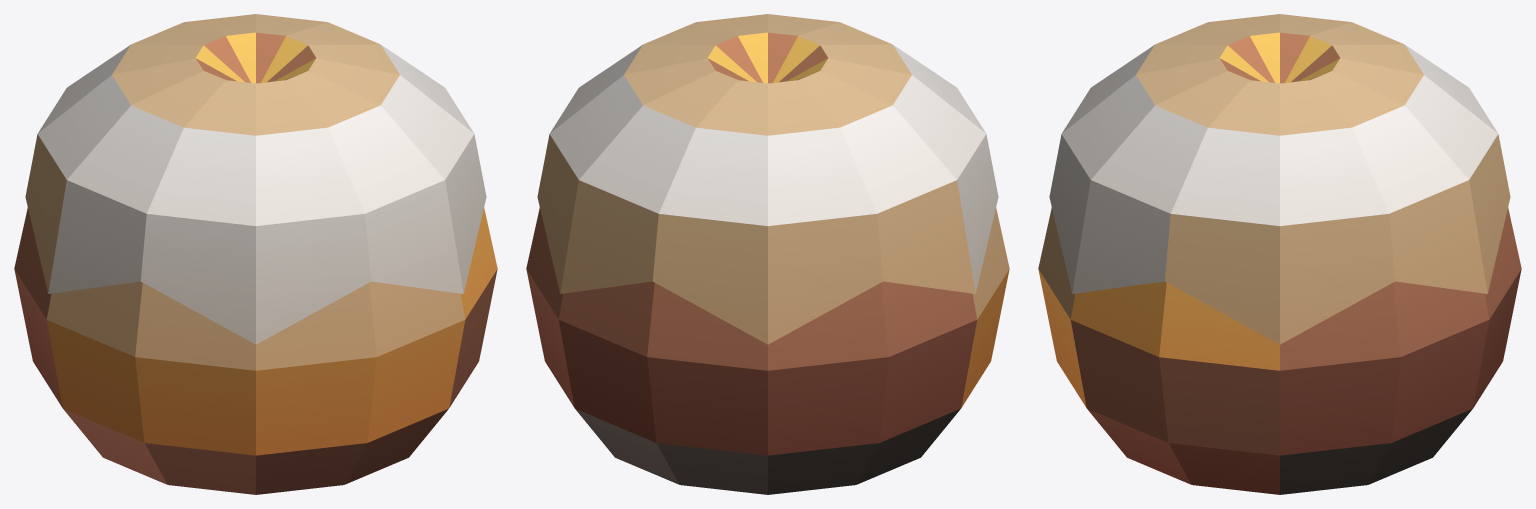
The model's file is food_bread_roll.glb.
3 views of the same model, side by side, from view 1: azimuth 30°, elevation 25°; view 2: azimuth 150°, elevation 25°; view 3: azimuth 270°, elevation 25° (orthographic).
Visible parts, largest first — view 1: model; view 2: model; view 3: model.
Boxes of the visible parts, box(x1,y1,x2,y2) form: model: box(14, 14, 497, 494); model: box(526, 14, 1009, 494); model: box(1038, 14, 1521, 494).
Size of the model in its own units: 0.52 by 0.43 by 0.52.
Materials: 1 (1 with a texture image).
